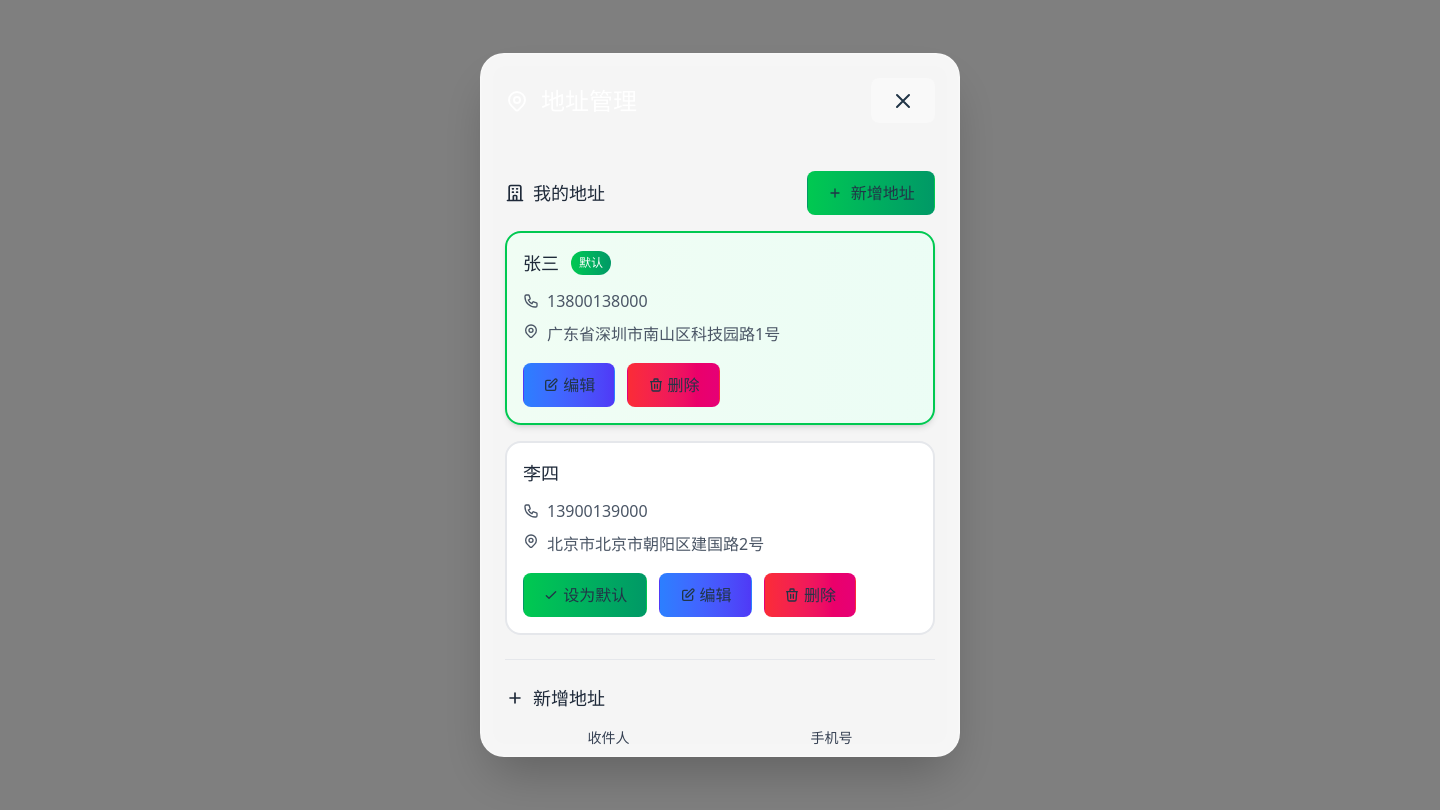
Test: AddressManageModal Component › 地址操作 › 点击编辑应该切换到编辑模式
The image size is (1440, 810).
What coordinates should you click on to do the following:
click the button "编辑" below "广东省"
I would click on:
 (569, 385)
Its box is top-left (523, 363), bottom-right (615, 407).
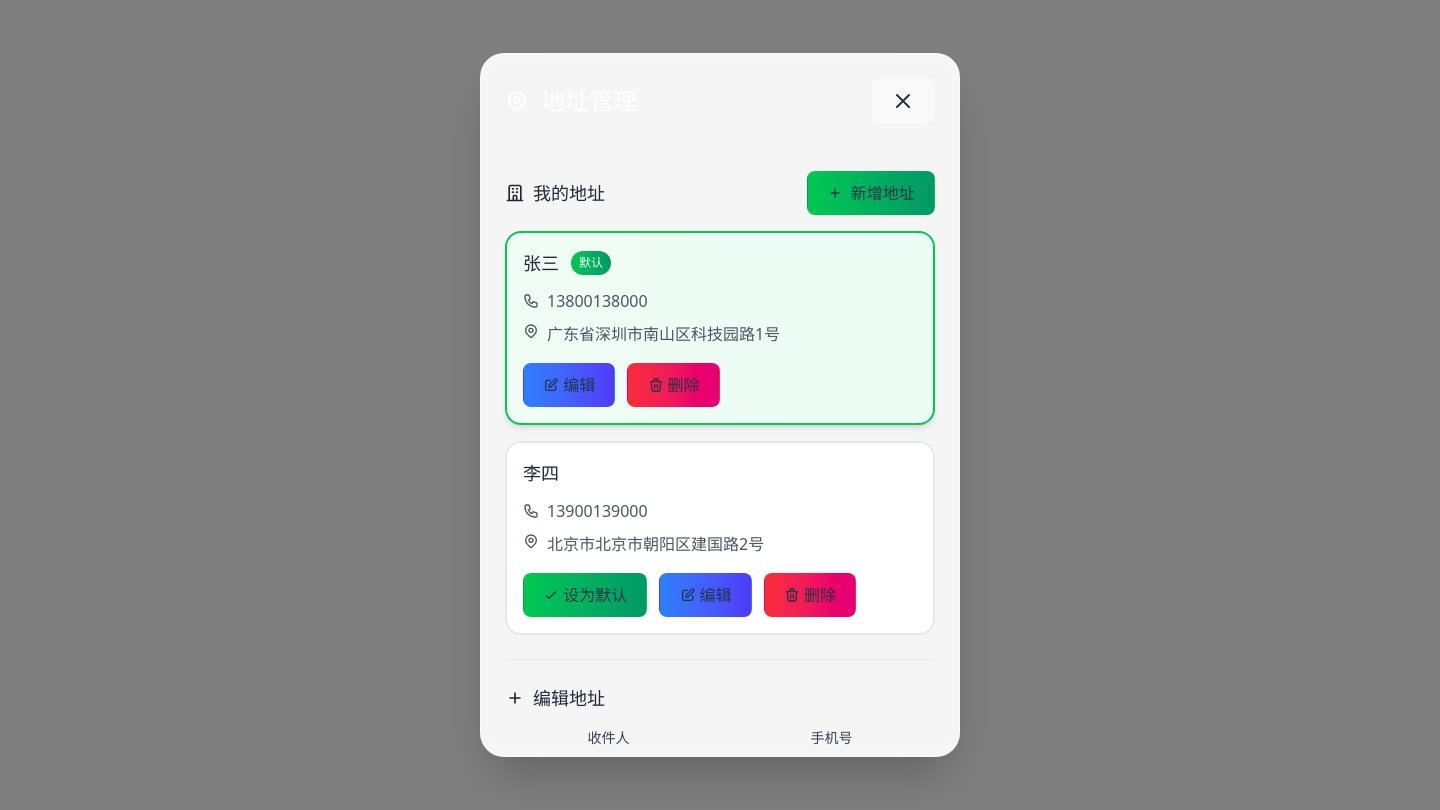
Expected: the heading "编辑地址" is shown, top-left (505, 686), bottom-right (605, 710)
